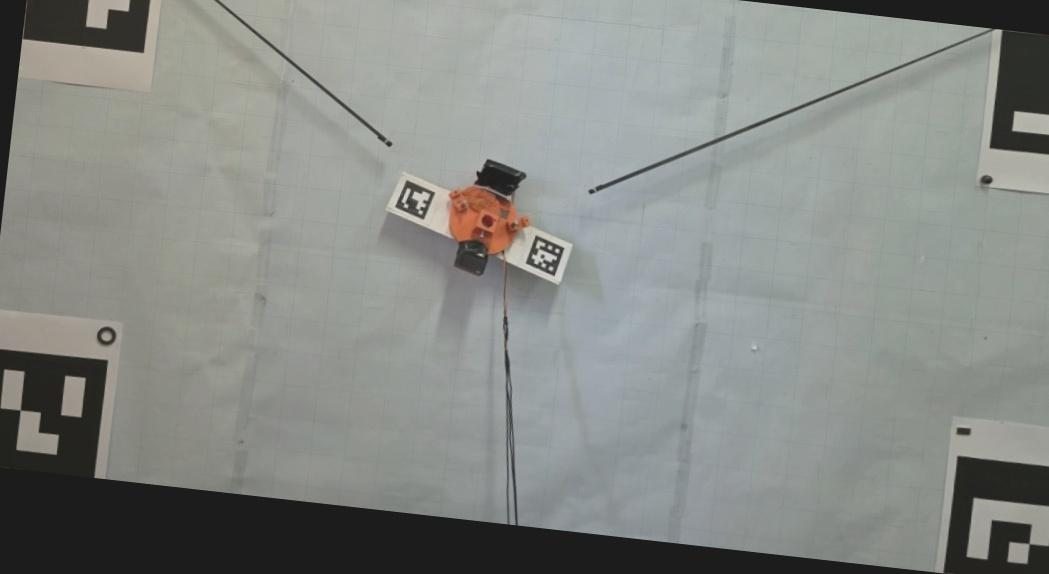robot: (449, 159, 532, 278)
